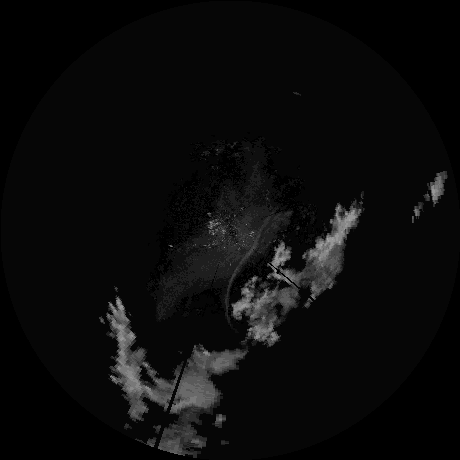frontgust: (223, 215, 272, 312)
